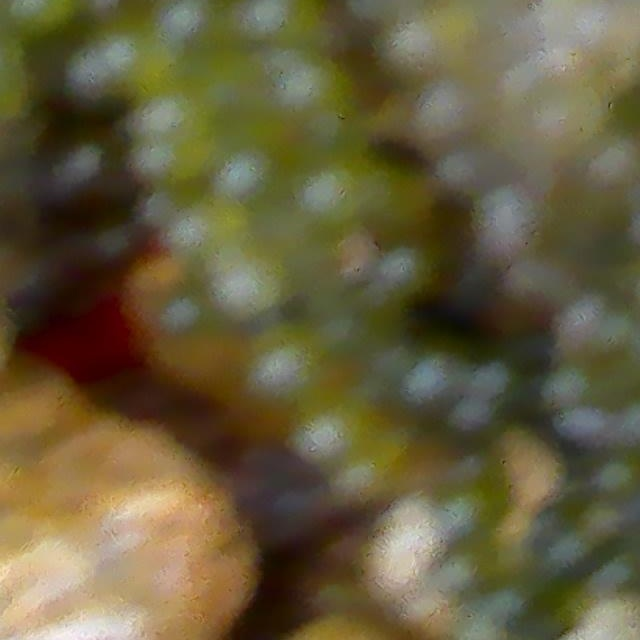SeaGrape: (212, 239, 287, 323), (251, 338, 328, 409), (293, 408, 374, 475), (101, 26, 176, 95), (168, 197, 250, 259), (129, 98, 210, 155), (140, 146, 210, 188)
